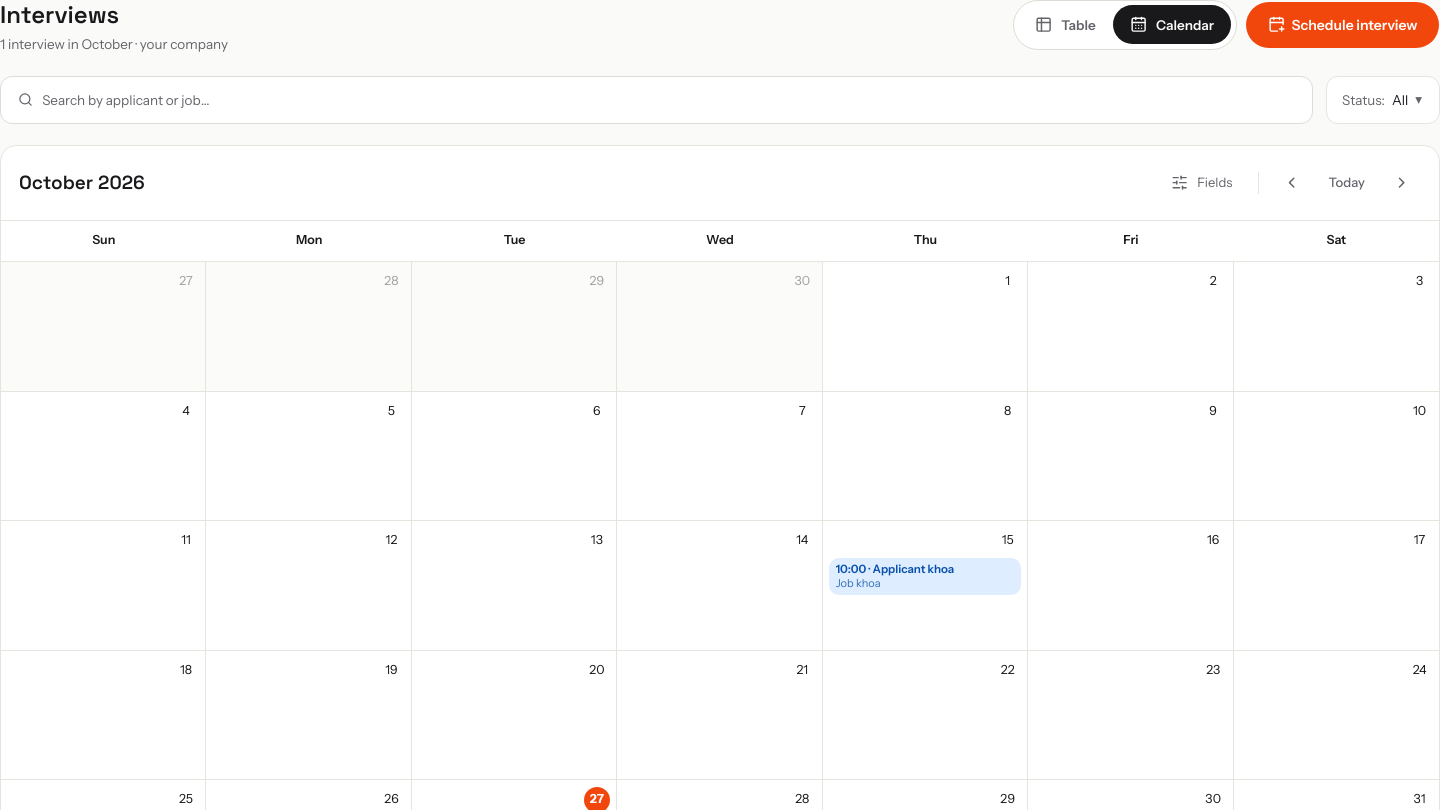
Recruiter interviews calendar › deletes from the summary: the summary closes and the confirmation opens
This screenshot has width=1440, height=810.
Click the text "10:00 · Applicant khoa". click: click(895, 569)
box: [836,562,954,576]
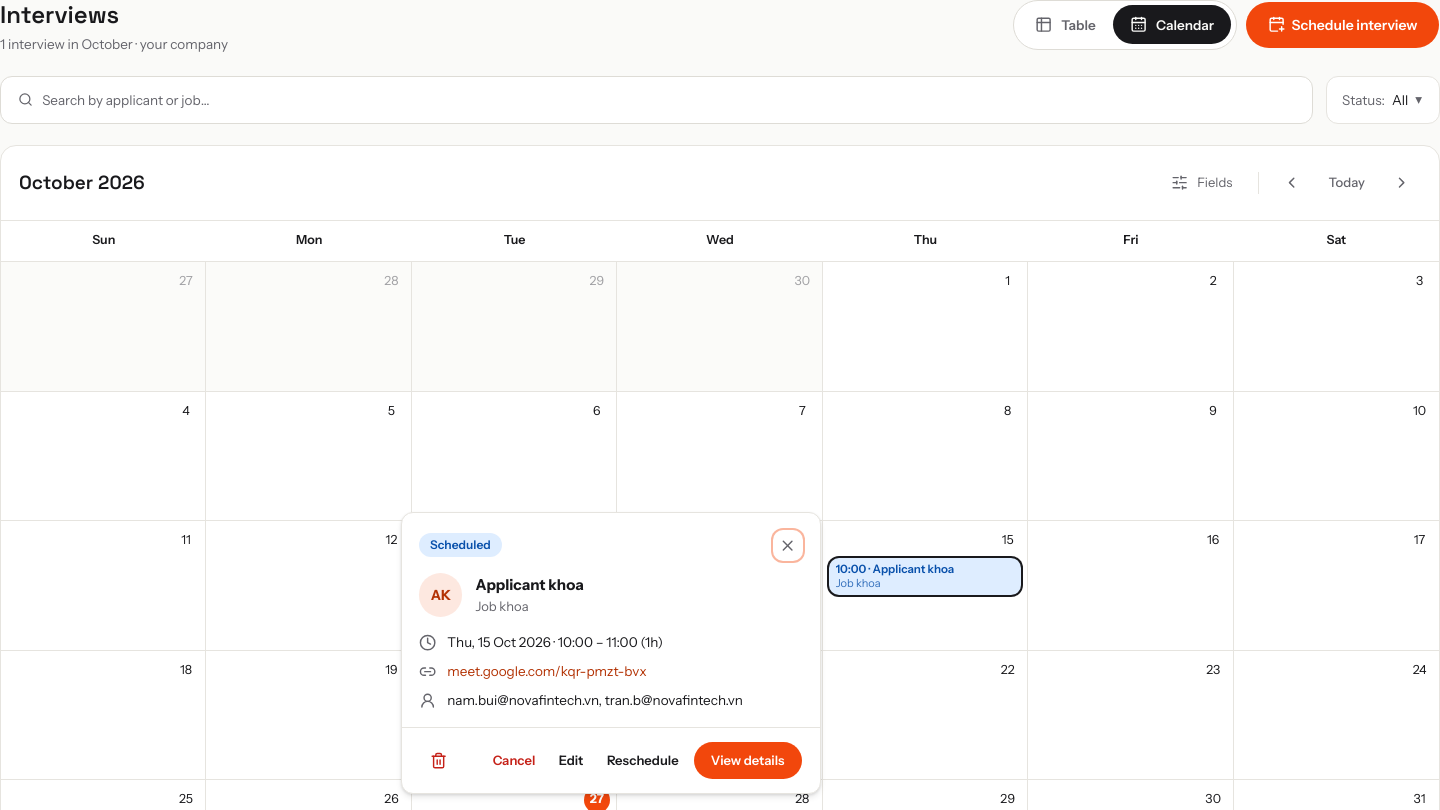
Click the button named "Delete interview". click: click(439, 760)
box: [419,741,458,780]
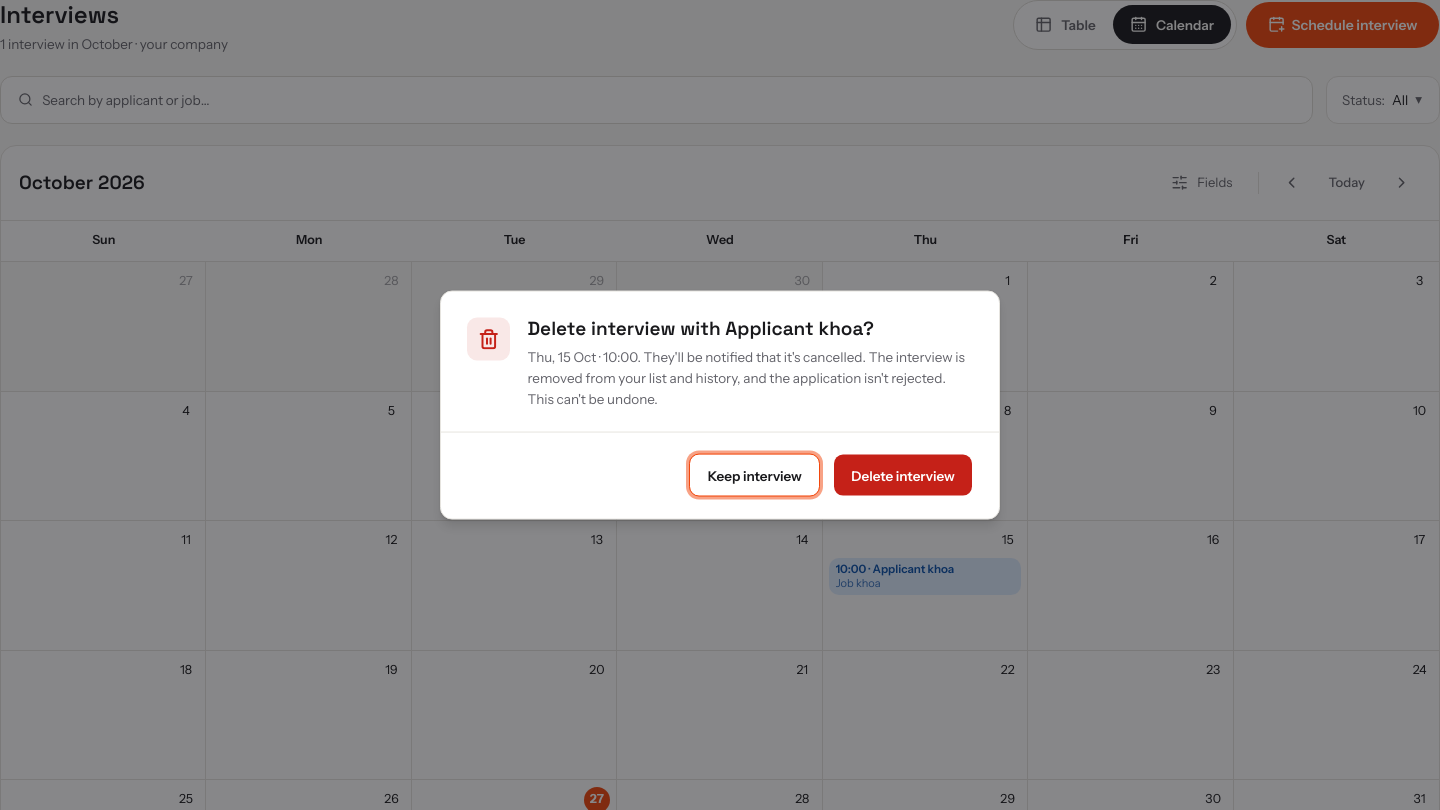
Expected: the dialog "Delete interview with Applicant khoa?" is shown, [440,290,1000,519]
Expected: the text "Thu, 15 Oct 2026 · 10:00 – 11:00 (1h)" is gone
